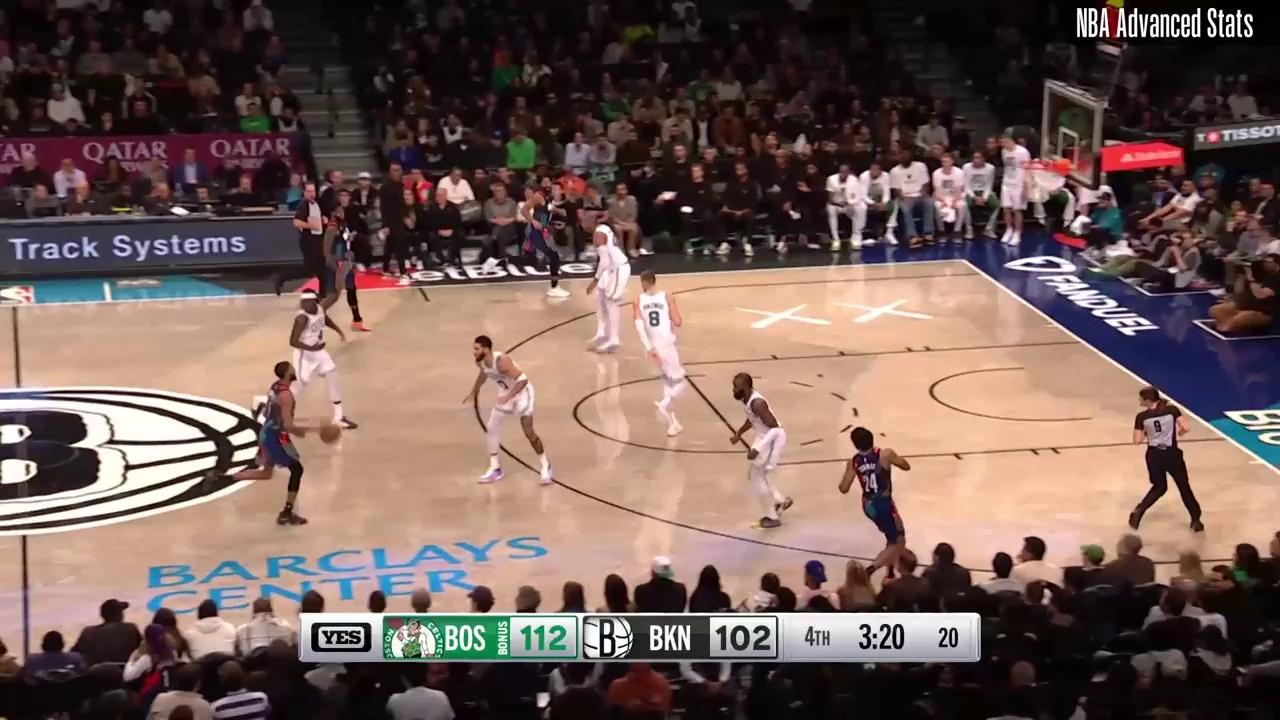3_sx: (978, 270, 987, 278)
b_sx: (959, 255, 968, 265)
free_bdx: (1223, 435, 1233, 443)
free_bsx: (1077, 337, 1086, 346)
half_sx: (8, 301, 20, 312)
mid_sx: (423, 297, 432, 305)
referee: (1120, 384, 1204, 535), (273, 181, 333, 301)
team: (461, 336, 553, 487), (252, 289, 349, 428), (728, 372, 796, 534), (636, 269, 691, 438), (579, 214, 634, 357)
team1: (205, 360, 304, 528), (830, 424, 912, 582), (511, 174, 569, 300), (311, 206, 367, 330)
timer: (848, 615, 916, 658)
